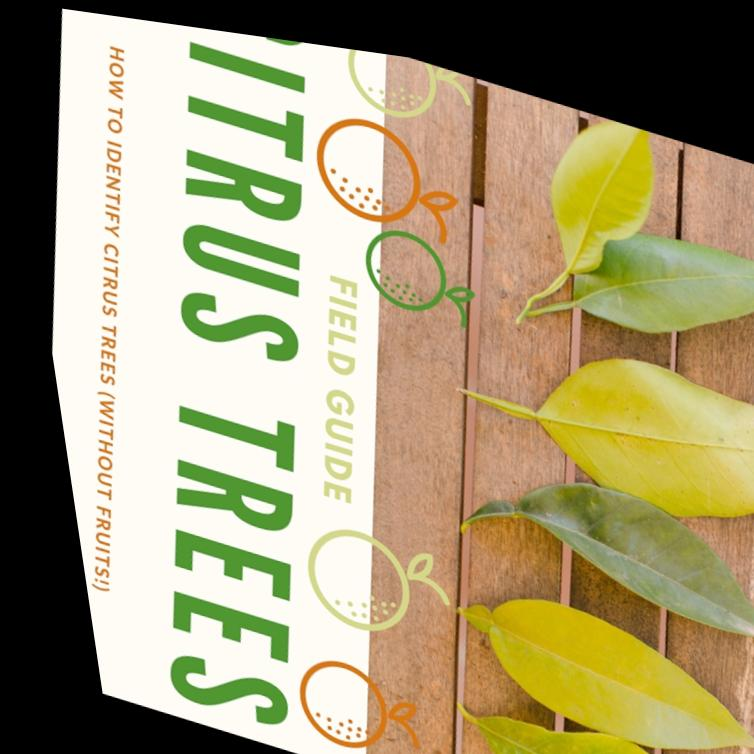Healthy Citrus: (434, 443, 754, 626), (513, 164, 754, 383)
